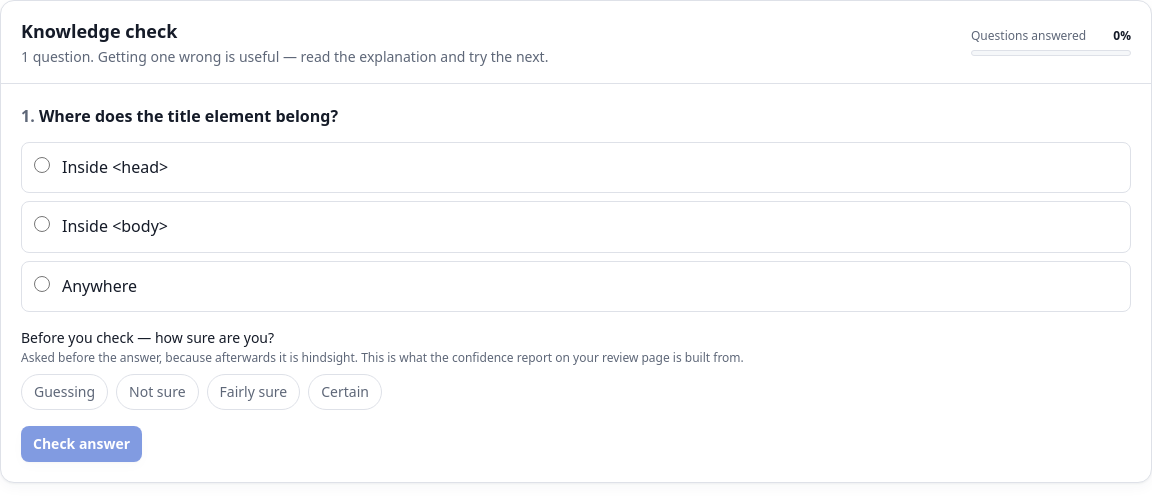
Test: quiz › explains a wrong answer rather than only marking it wrong
This screenshot has width=1152, height=501.
Click the radio button labelled "Inside <body>" at (42, 224), box [34,216,50,232]
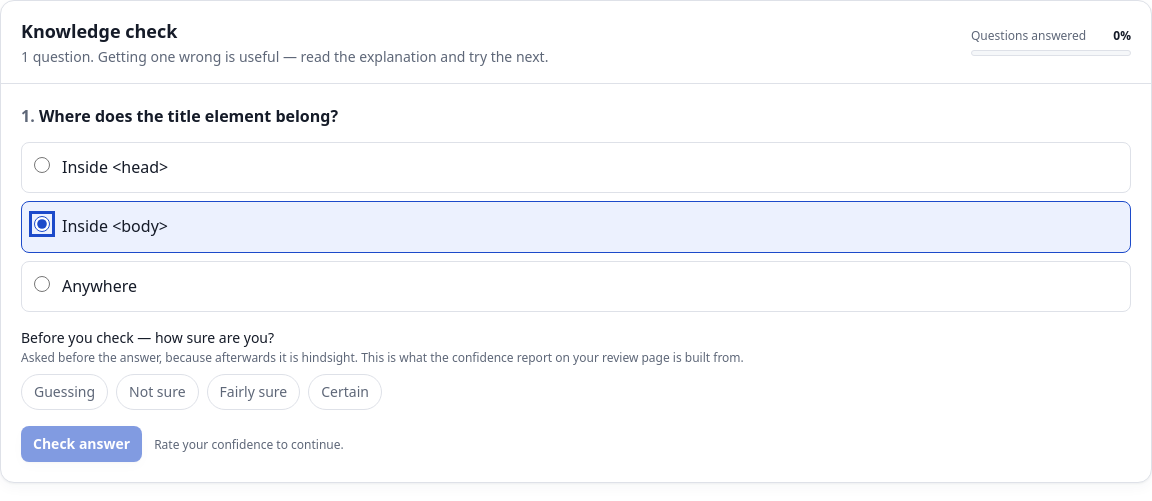
Click the radio button labelled "Guessing" at (64, 392), box [21,374,108,410]
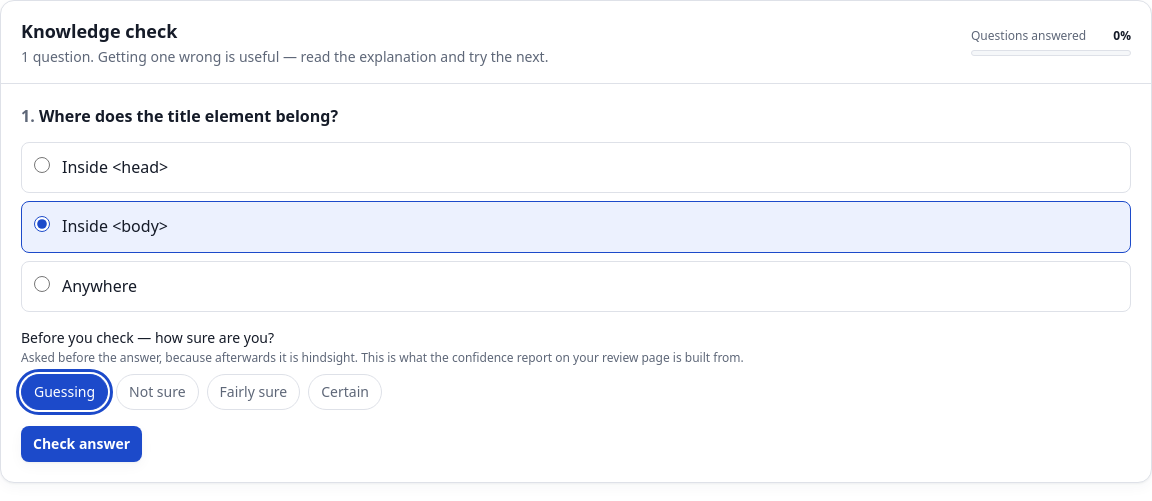
Click the button "Check answer" at (82, 444), box [21,426,142,462]
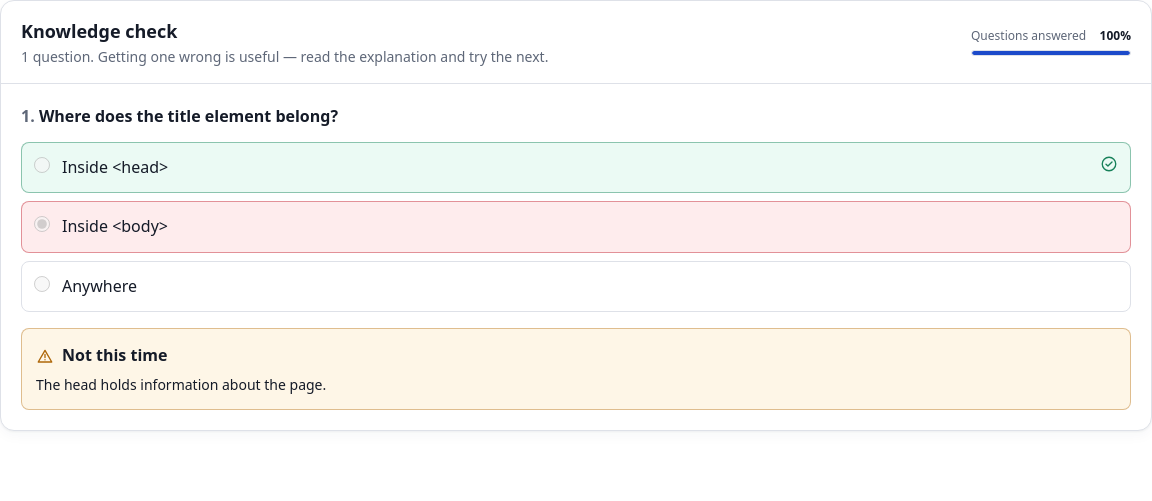
Result: the text "Not this time" is shown at [36,344,168,366]
Result: the text "The head holds information about the page." is shown at [36,375,326,394]
